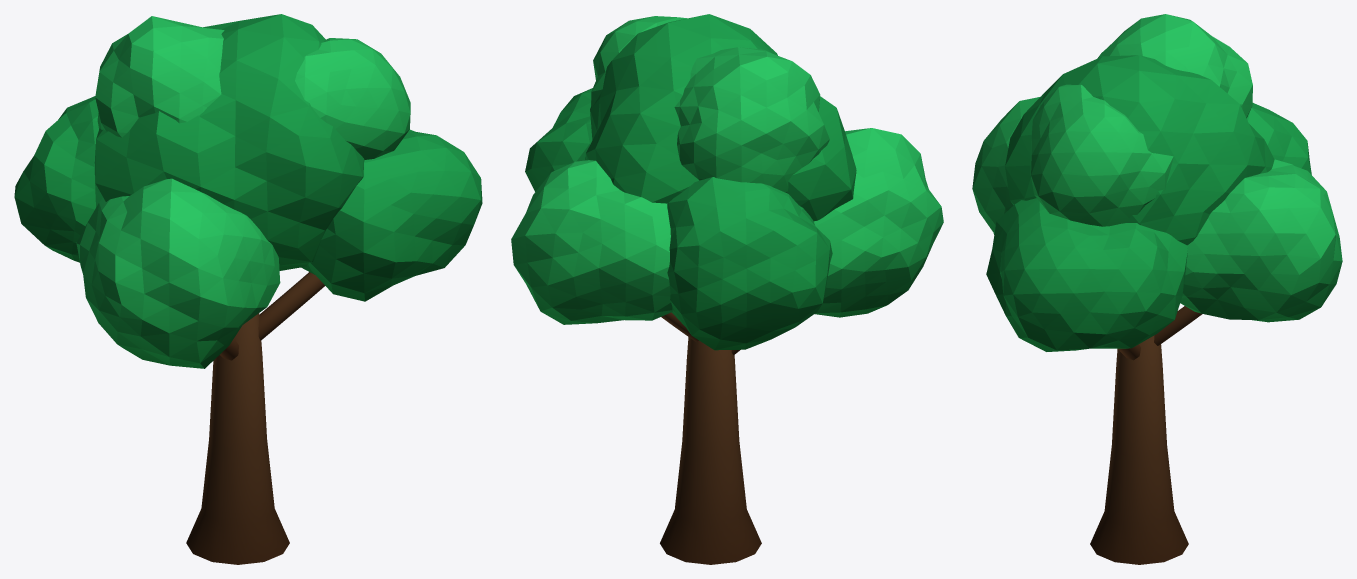
Rendered from env-tree-oak.glb.
The picture shows the model from 3 angles, left to right: view 1: azimuth 30°, elevation 25°; view 2: azimuth 150°, elevation 25°; view 3: azimuth 270°, elevation 25°; orthographic projection. The views are drawn at different scales.
Parts seen in each view (by area): view 1: EnvTreeOak; view 2: EnvTreeOak; view 3: EnvTreeOak.
Part boxes in pixels (x1,y1,x2,y2): EnvTreeOak: [14, 14, 482, 564]; EnvTreeOak: [511, 14, 943, 564]; EnvTreeOak: [972, 14, 1342, 564].
Size of the model in its own units: 2.81 by 3.77 by 2.55.
